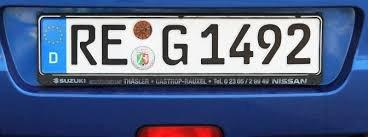license-plates: (38, 15, 323, 86)
